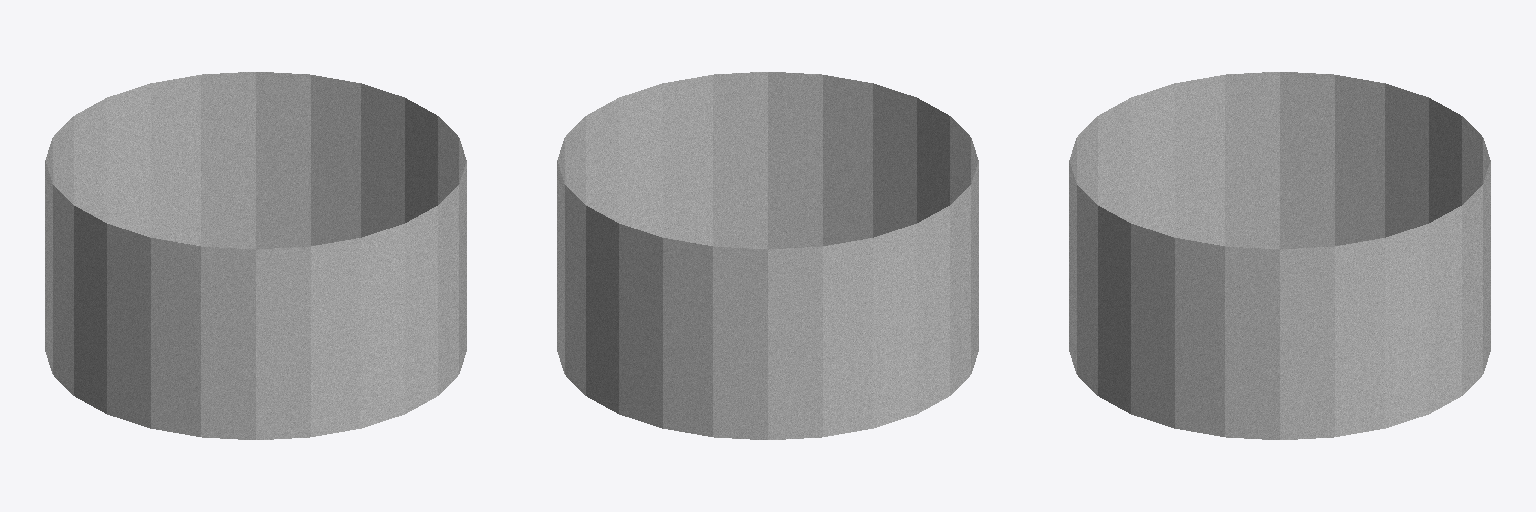
The picture shows the model from 3 angles: view 1: azimuth 30°, elevation 25°; view 2: azimuth 150°, elevation 25°; view 3: azimuth 270°, elevation 25°; orthographic projection.
Visible parts, largest first — view 1: S1White; view 2: S1White; view 3: S1White.
Part boxes in pixels (x1,y1,x2,y2): S1White: (45,72,466,439); S1White: (557,72,978,439); S1White: (1069,72,1490,439).
Size of the model in its own units: 1.25 by 0.625 by 1.25.
1 materials, 1 textured.